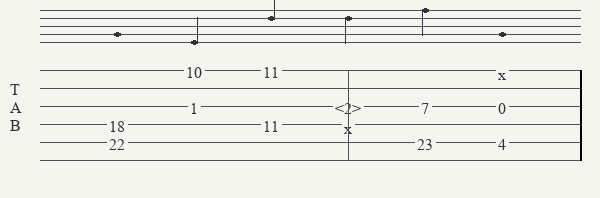0: (498, 99, 510, 114)
1: (190, 99, 202, 114)
10: (186, 63, 206, 78)
11: (263, 63, 283, 78), (263, 117, 283, 132)
18: (109, 117, 129, 132)
22: (109, 135, 129, 150)
23: (417, 135, 437, 150)
4: (498, 135, 510, 150)
7: (421, 99, 433, 114)
harmonic: (335, 99, 365, 114)
x: (344, 119, 356, 130), (498, 65, 510, 76)
